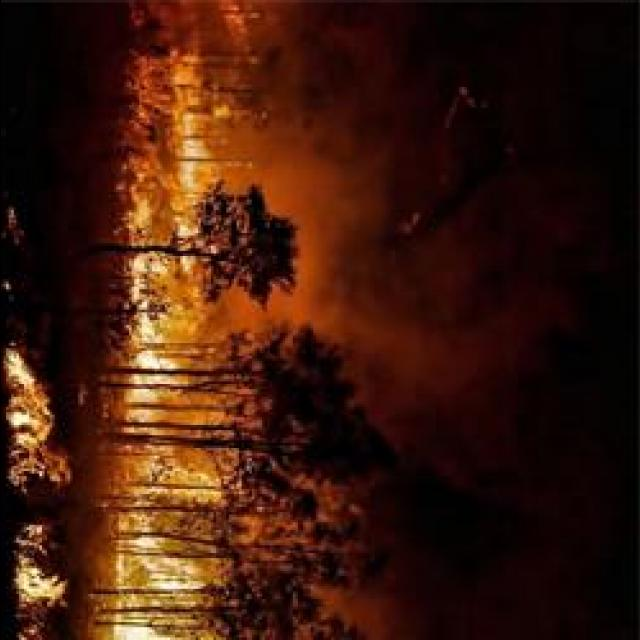fire: (0, 376, 55, 476), (328, 536, 384, 622), (9, 546, 58, 618), (122, 341, 169, 415), (174, 122, 206, 228), (136, 548, 164, 640)
smoke: (303, 180, 398, 374), (277, 0, 343, 77)
